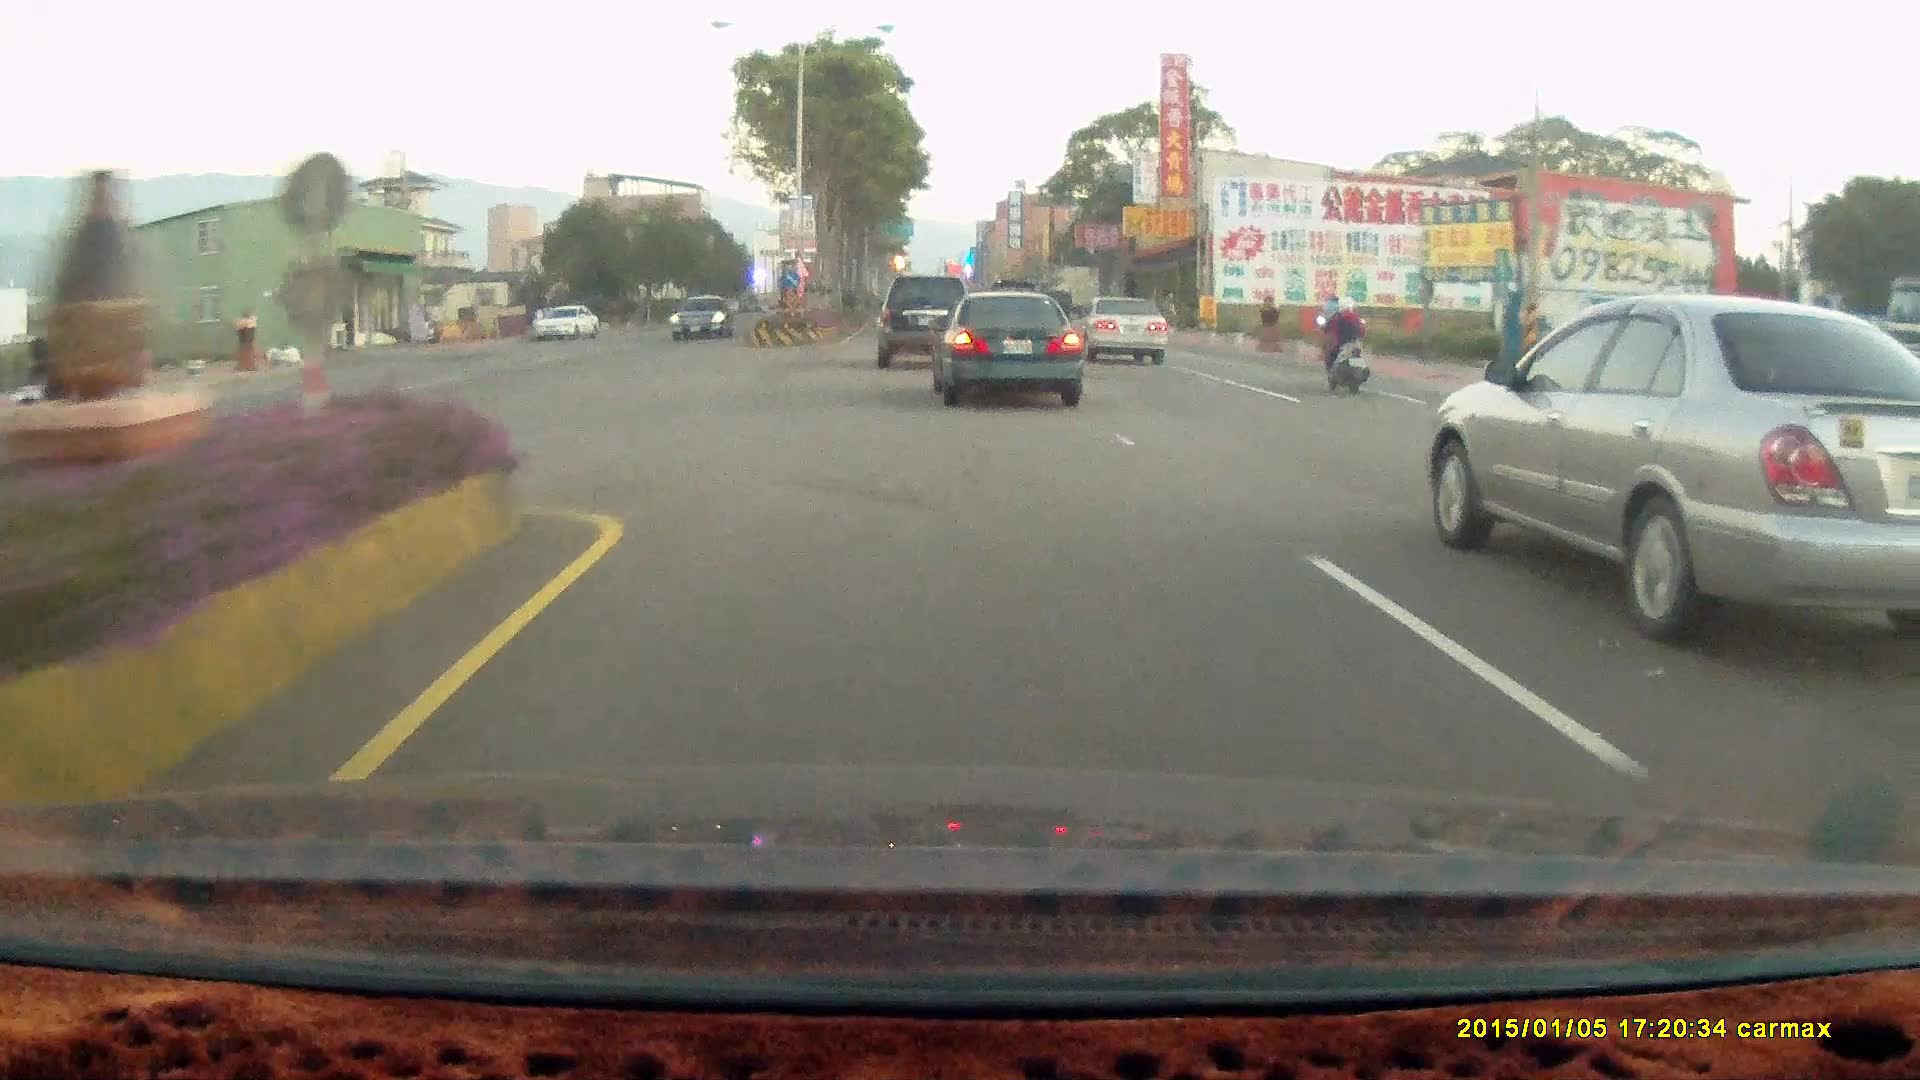rider: (1308, 285, 1380, 403), (1313, 293, 1369, 392)
vehicle: (1423, 297, 1920, 656), (924, 290, 1081, 406), (935, 297, 1087, 410), (880, 274, 976, 374), (875, 276, 969, 370), (1073, 294, 1168, 363), (1074, 301, 1169, 367), (670, 296, 737, 343), (670, 294, 735, 337), (533, 307, 602, 346), (530, 304, 599, 342)
